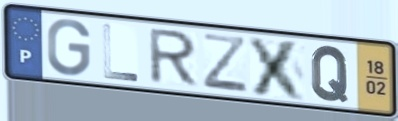G: (45, 17, 93, 79)
L: (101, 21, 141, 84)
Q: (309, 43, 351, 104)
R: (147, 27, 201, 89)
X: (246, 34, 309, 103)
Z: (200, 31, 251, 96)
